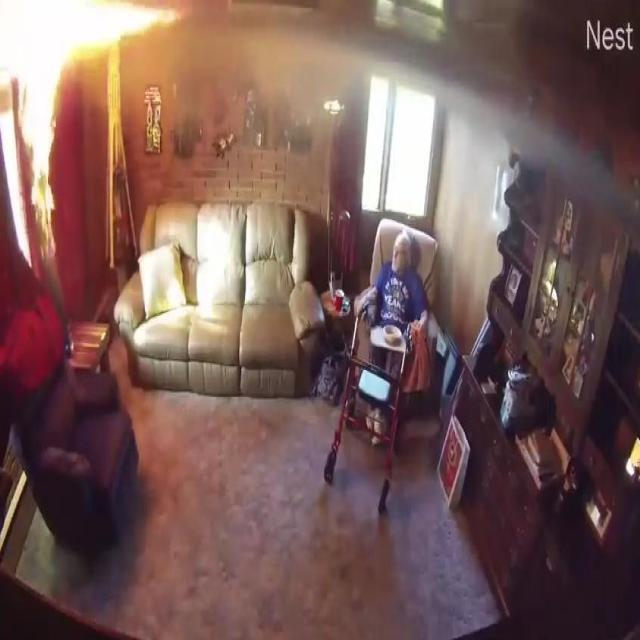smoke: (1, 0, 66, 257), (2, 0, 183, 72)
